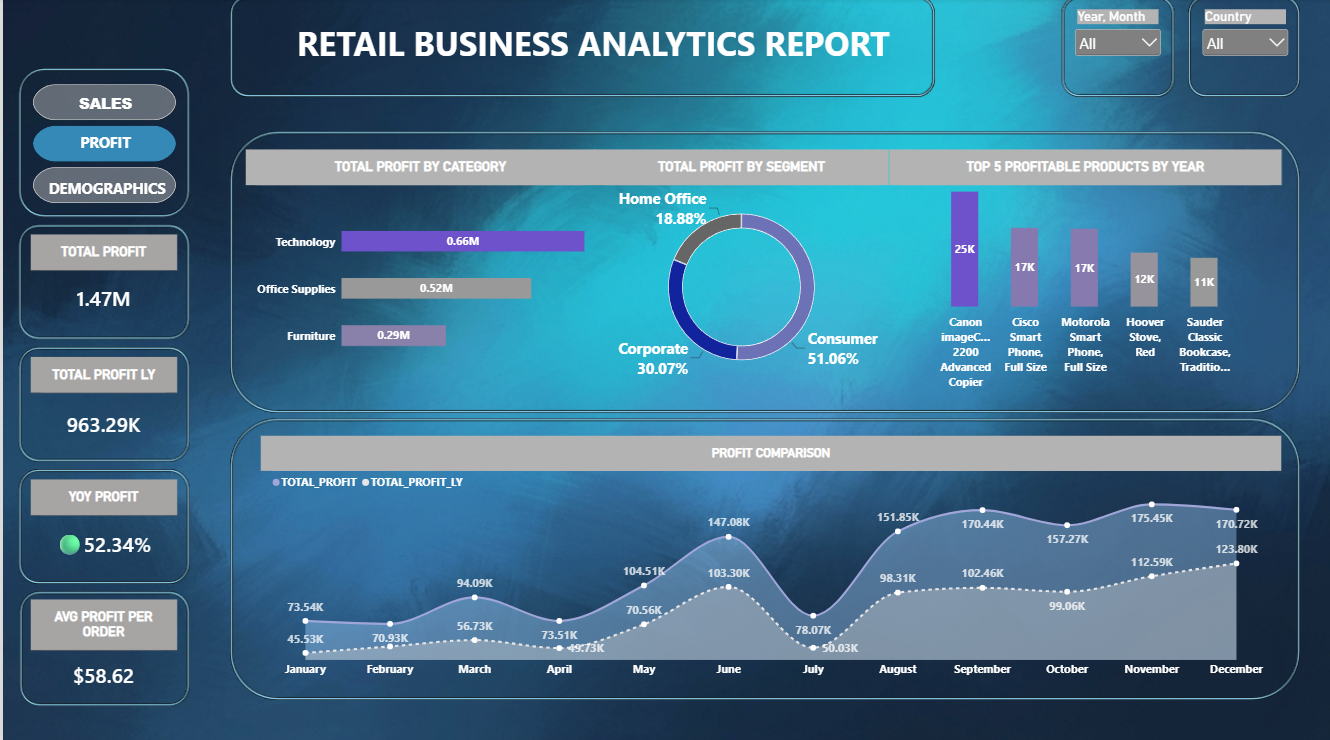

What the dashboard file says about the page in this screenshot:
{"tool":"powerbi","page":{"name":"PROFIT","canvas":[1920,1080],"ordinal":1},"visuals":[{"type":"pageNavigator","box":[43.2,125.6,207.9,172.9],"z":0,"group":"g1"},{"type":"card","title":"TOTAL PROFIT","fields":{"Values":["calculate_table.TOTAL_PROFIT"]},"box":[39.8,342,211.7,132.1],"z":0},{"type":"textbox","box":[102.9,138.5,90.5,36.8],"z":1000,"group":"g1"},{"type":"card","title":"TOTAL PROFIT LY","fields":{"Values":["calculate_table.TOTAL_PROFIT_LY"]},"box":[39.8,519.4,211.7,141.2],"z":1000},{"type":"textbox","box":[102.9,193.7,90.5,36.8],"z":2000,"group":"g1"},{"type":"card","title":"YOY PROFIT","fields":{"Values":["calculate_table.YOY_PROFIT"]},"box":[39.8,696.7,211.7,135.7],"z":2000},{"type":"textbox","box":[50.9,261.7,200.2,36.8],"z":3000,"group":"g1"},{"type":"card","title":"AVG PROFIT PER ORDER","fields":{"Values":["calculate_table.AVG_PROFIT_PER_ORDER"]},"box":[39.8,870.4,211.7,146.6],"z":3000},{"type":"clusteredBarChart","title":"TOTAL PROFIT BY CATEGORY","fields":{"Category":["product_table.Category"],"Y":["calculate_table.TOTAL_PROFIT"]},"box":[351.1,219,506.7,361.9],"z":4000},{"type":"donutChart","title":"TOTAL PROFIT BY SEGMENT","fields":{"Category":["customer_table.Segment"],"Y":["calculate_table.TOTAL_PROFIT"]},"box":[856.3,218.2,426.1,362.3],"z":5000},{"type":"clusteredColumnChart","title":"TOP 5 PROFITABLE PRODUCTS BY YEAR","fields":{"Category":["product_table.Product Name"],"Y":["calculate_table.TOTAL_PROFIT"]},"box":[1282.3,218.2,568.1,366.4],"z":6000},{"type":"lineChart","title":"PROFIT COMPARISON","fields":{"Category":["DATETABLE.Date.Variation.Date Hierarchy.Month"],"Y":["calculate_table.TOTAL_PROFIT","calculate_table.TOTAL_PROFIT_LY"]},"box":[372.6,634,1477.9,370.5],"z":7000},{"type":"slicer","fields":{"Values":["DATETABLE.Date.Variation.Date Hierarchy.Year","DATETABLE.Date.Variation.Date Hierarchy.Month"]},"box":[1547.9,16.5,133.8,100.9],"z":8000},{"type":"slicer","fields":{"Values":["location_table.Country"]},"box":[1731.1,16.5,133.8,100.9],"z":9000},{"type":"group","id":"g1","title":"Group 1","box":[43.2,125.6,207.9,172.9],"z":11000},{"type":"textbox","box":[424,32.9,862.4,67.9],"z":11001}]}

Visuals, with their boxes in screenshot pixels (x1, y1, x2, y2), scaled from the page's 1920x1080 canvas onto the 1330x740 screenshot:
pageNavigator: bbox=[30, 86, 174, 205]
"TOTAL PROFIT" card: bbox=[28, 234, 174, 325]
textbox: bbox=[71, 95, 134, 120]
"TOTAL PROFIT LY" card: bbox=[28, 356, 174, 453]
textbox: bbox=[71, 133, 134, 158]
"YOY PROFIT" card: bbox=[28, 477, 174, 570]
textbox: bbox=[35, 179, 174, 205]
"AVG PROFIT PER ORDER" card: bbox=[28, 596, 174, 697]
"TOTAL PROFIT BY CATEGORY" clusteredBarChart: bbox=[243, 150, 594, 398]
"TOTAL PROFIT BY SEGMENT" donutChart: bbox=[593, 150, 888, 398]
"TOP 5 PROFITABLE PRODUCTS BY YEAR" clusteredColumnChart: bbox=[888, 150, 1282, 401]
"PROFIT COMPARISON" lineChart: bbox=[258, 434, 1282, 688]
slicer - DATETABLE.Date.Variation.Date Hierarchy.Year x DATETABLE.Date.Variation.Date Hierarchy.Month: bbox=[1072, 11, 1165, 80]
slicer - location_table.Country: bbox=[1199, 11, 1292, 80]
"Group 1" group: bbox=[30, 86, 174, 205]
textbox: bbox=[294, 23, 891, 69]
